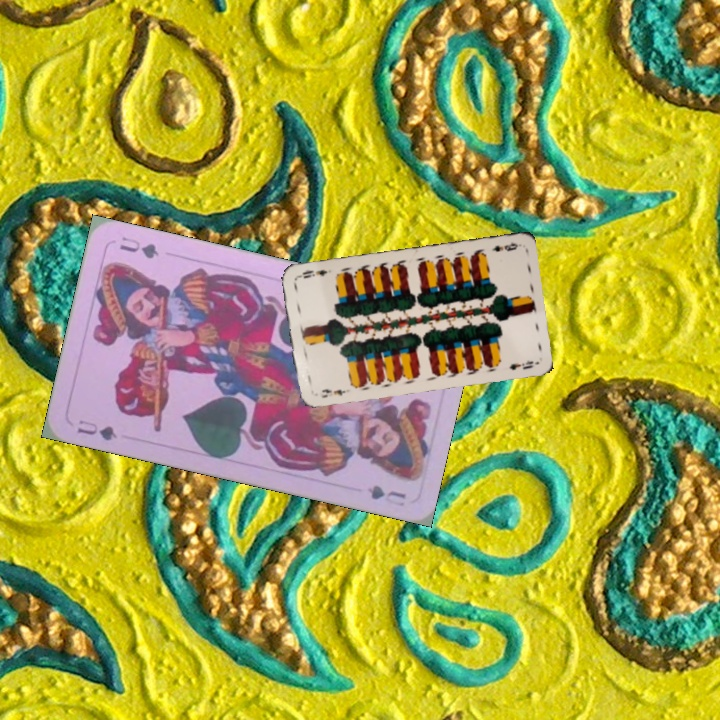E9: (487, 238, 520, 254), (317, 385, 351, 400)
GU: (73, 416, 119, 444)
